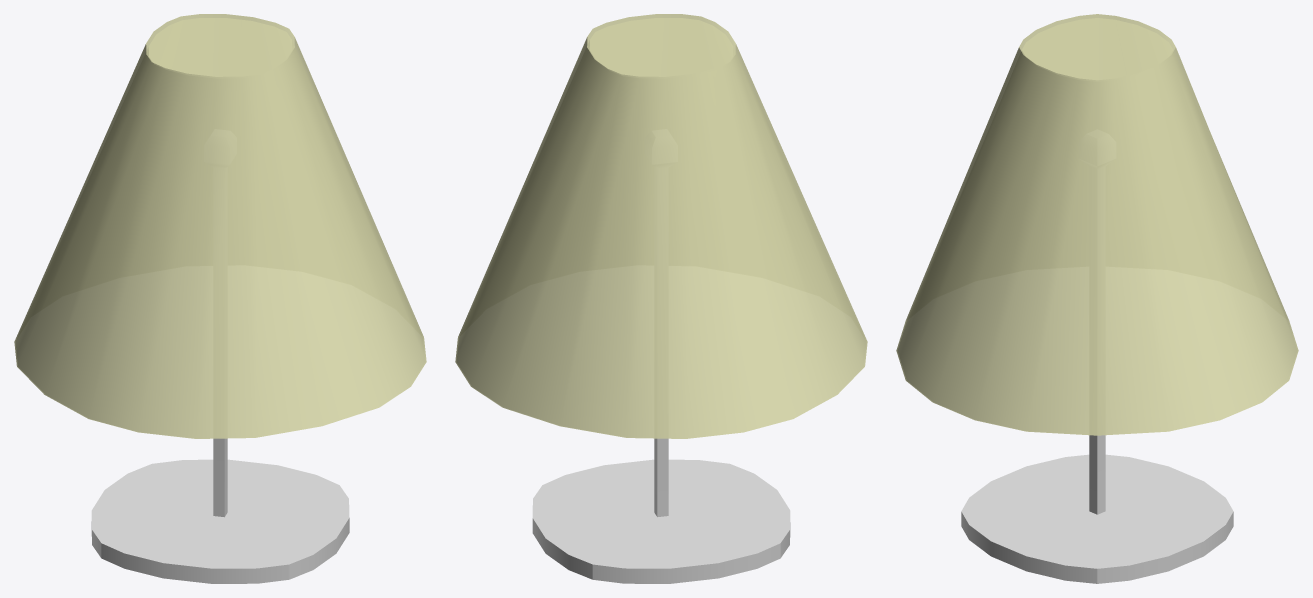
3 views of the same model, side by side, from view 1: azimuth 30°, elevation 25°; view 2: azimuth 150°, elevation 25°; view 3: azimuth 270°, elevation 25° (orthographic).
Visible parts, largest first — view 1: polySurface141; view 2: polySurface141; view 3: polySurface141.
Boxes of the visible parts, x1,y1,x2,y2 form: polySurface141: (14,14,426,583); polySurface141: (455,14,867,583); polySurface141: (896,14,1298,583).
Bounding box in the file's own units: 4.6 × 6.04 × 4.6.
